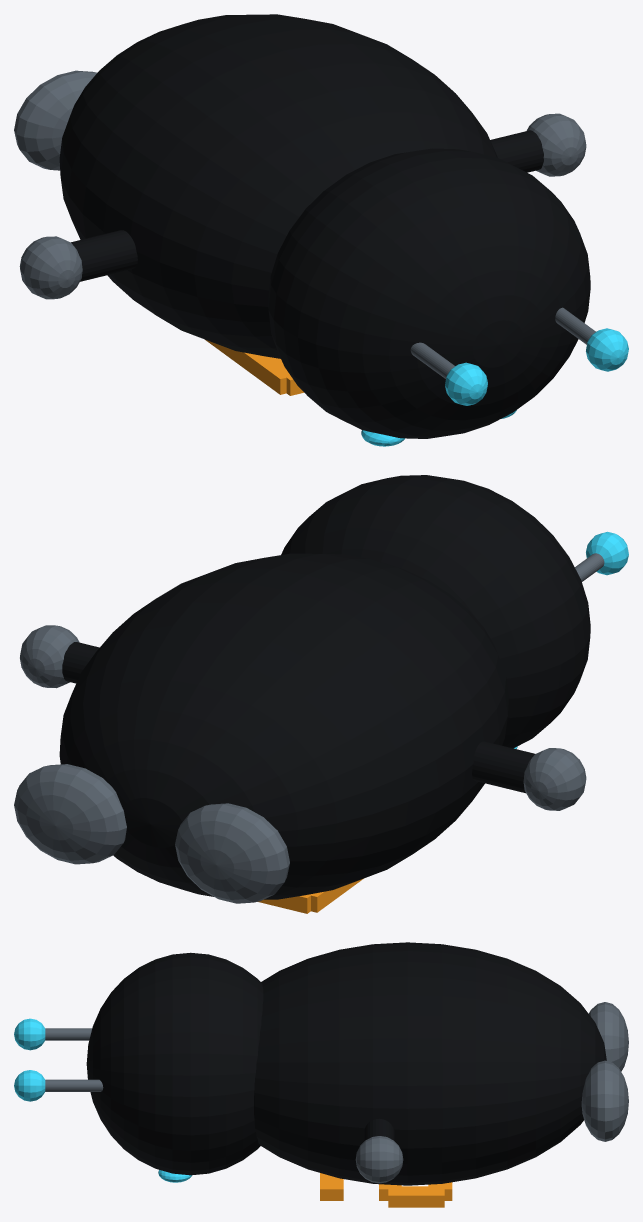
Rendered from pet_g.obj.
3 views of the same model, one above another, from view 1: azimuth 30°, elevation 25°; view 2: azimuth 150°, elevation 25°; view 3: azimuth 270°, elevation 25° (orthographic). The views are drawn at different scales.
Parts seen in each view (by area): view 1: body_soft_capsule, head_round_display, left_foot, left_hand, right_hand, left_arm, right_arm, chest_g_vertical, left_antenna_light, right_antenna_light, left_antenna, right_antenna; view 2: body_soft_capsule, head_round_display, left_foot, right_foot, left_hand, right_hand, left_arm, left_antenna_light, right_arm; view 3: body_soft_capsule, head_round_display, right_foot, right_hand, left_foot, chest_g_tip, left_antenna_light, right_antenna_light, right_antenna, chest_g_top, left_antenna, right_arm.
Boxes of the visible parts, x1=… form: body_soft_capsule: x1=59, y1=14, x2=497, y2=358; head_round_display: x1=268, y1=148, x2=590, y2=438; left_foot: x1=14, y1=70, x2=96, y2=170; left_hand: x1=19, y1=236, x2=82, y2=299; right_hand: x1=526, y1=113, x2=586, y2=176; left_arm: x1=71, y1=230, x2=137, y2=281; right_arm: x1=490, y1=130, x2=543, y2=172; chest_g_vertical: x1=205, y1=339, x2=289, y2=394; left_antenna_light: x1=445, y1=362, x2=487, y2=405; right_antenna_light: x1=586, y1=328, x2=628, y2=371; left_antenna: x1=410, y1=342, x2=454, y2=378; right_antenna: x1=555, y1=307, x2=595, y2=344; body_soft_capsule: x1=59, y1=553, x2=508, y2=899; head_round_display: x1=281, y1=475, x2=590, y2=748; left_foot: x1=175, y1=803, x2=289, y2=903; right_foot: x1=14, y1=764, x2=126, y2=864; left_hand: x1=523, y1=748, x2=586, y2=810; right_hand: x1=20, y1=625, x2=79, y2=688; left_arm: x1=472, y1=741, x2=534, y2=793; left_antenna_light: x1=586, y1=531, x2=628, y2=575; right_arm: x1=62, y1=642, x2=99, y2=683; body_soft_capsule: x1=254, y1=942, x2=606, y2=1185; head_round_display: x1=86, y1=952, x2=263, y2=1175; right_foot: x1=581, y1=1060, x2=628, y2=1141; right_hand: x1=355, y1=1136, x2=403, y2=1183; left_foot: x1=589, y1=1002, x2=628, y2=1071; chest_g_tip: x1=388, y1=1186, x2=444, y2=1207; left_antenna_light: x1=14, y1=1018, x2=45, y2=1050; right_antenna_light: x1=14, y1=1070, x2=45, y2=1101; right_antenna: x1=45, y1=1079, x2=103, y2=1091; chest_g_top: x1=320, y1=1173, x2=343, y2=1200; left_antenna: x1=45, y1=1028, x2=92, y2=1040; right_arm: x1=364, y1=1118, x2=394, y2=1140.
Bounding box in the file's own units: 2.22 × 1.1 × 2.84.
